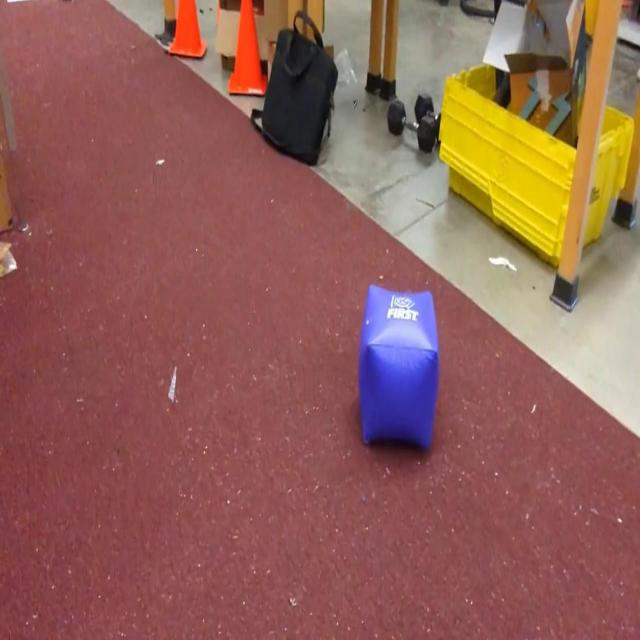frc_cube: (358, 284, 440, 454)
